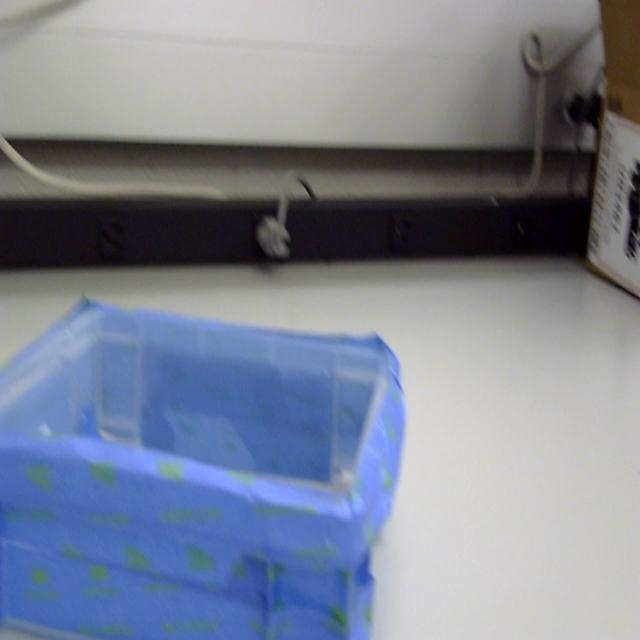bucket: (0, 298, 408, 640)
